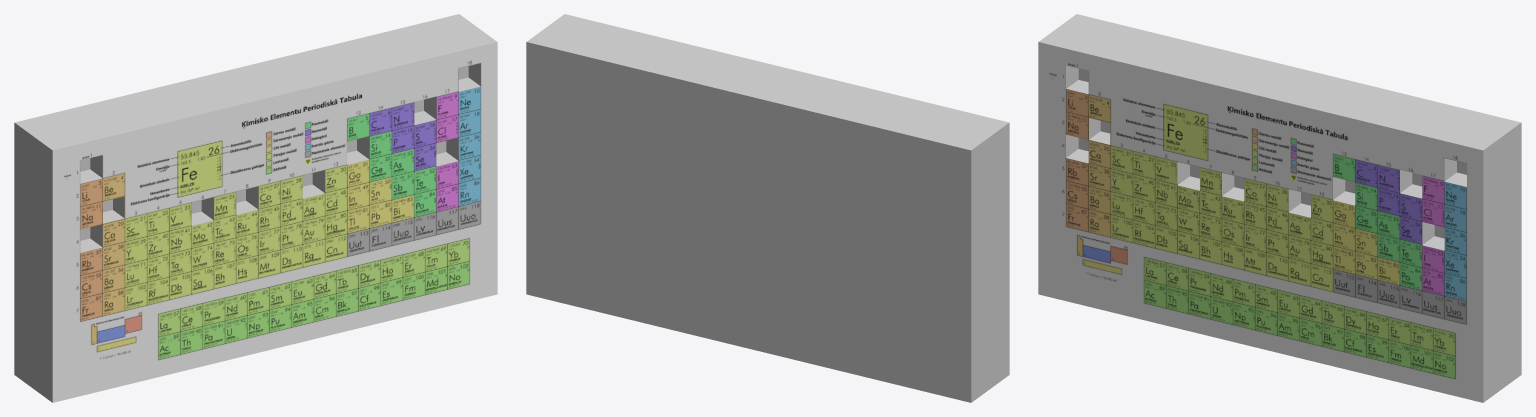
File: pertab.fbx
The picture shows the model from 3 angles, left to right: view 1: azimuth 30°, elevation 25°; view 2: azimuth 150°, elevation 25°; view 3: azimuth 330°, elevation 25°; orthographic projection.
Visible parts, largest first — view 1: Table; view 2: Table; view 3: Table.
Part boxes in pixels (x1,y1,x2,y2): Table: (14, 14, 497, 402); Table: (526, 14, 1009, 402); Table: (1038, 14, 1521, 402).
Size of the model in its own units: 497 by 269 by 73.96.
